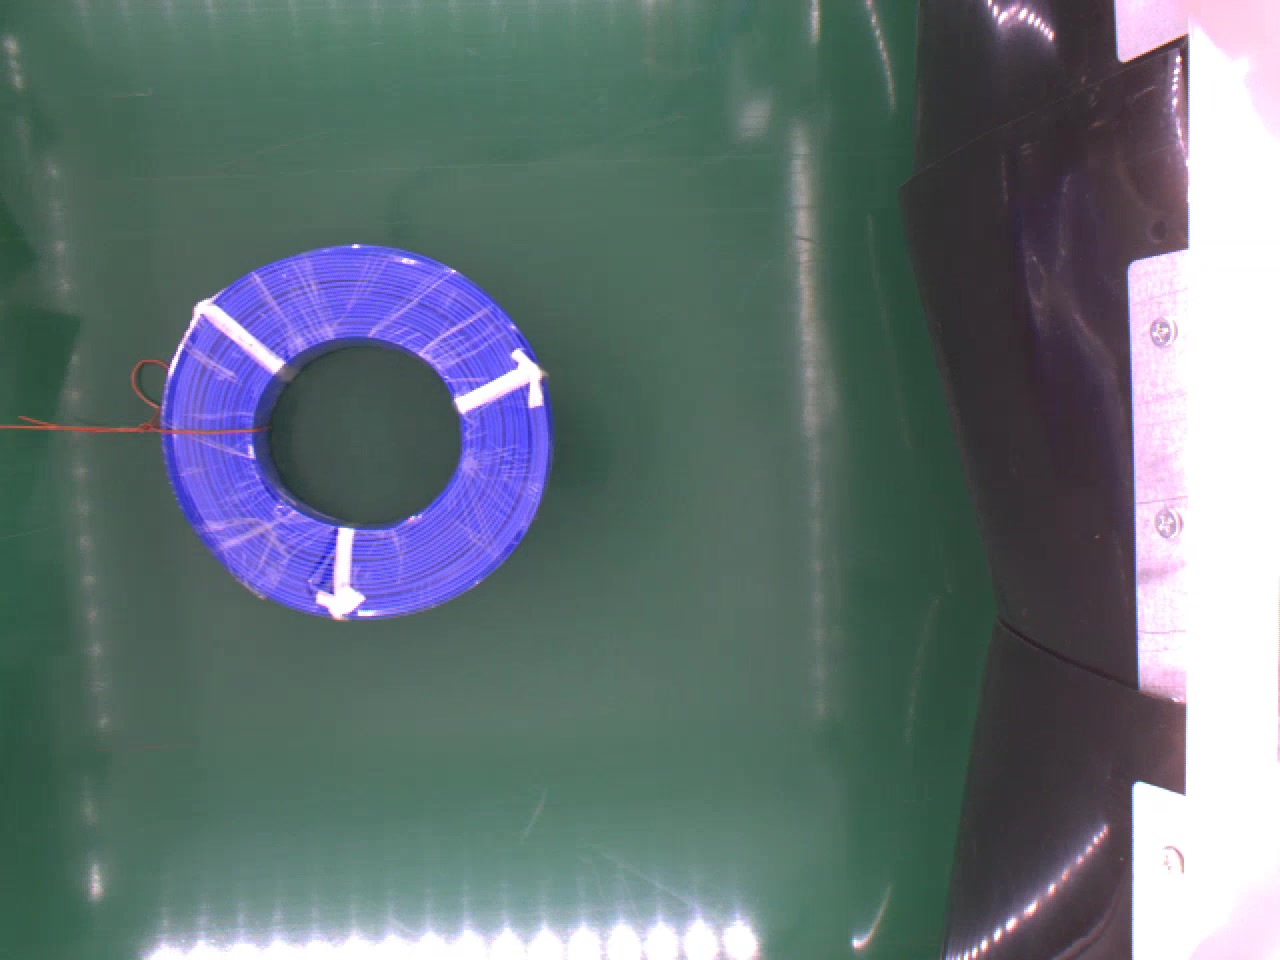blue: (162, 243, 553, 620)
